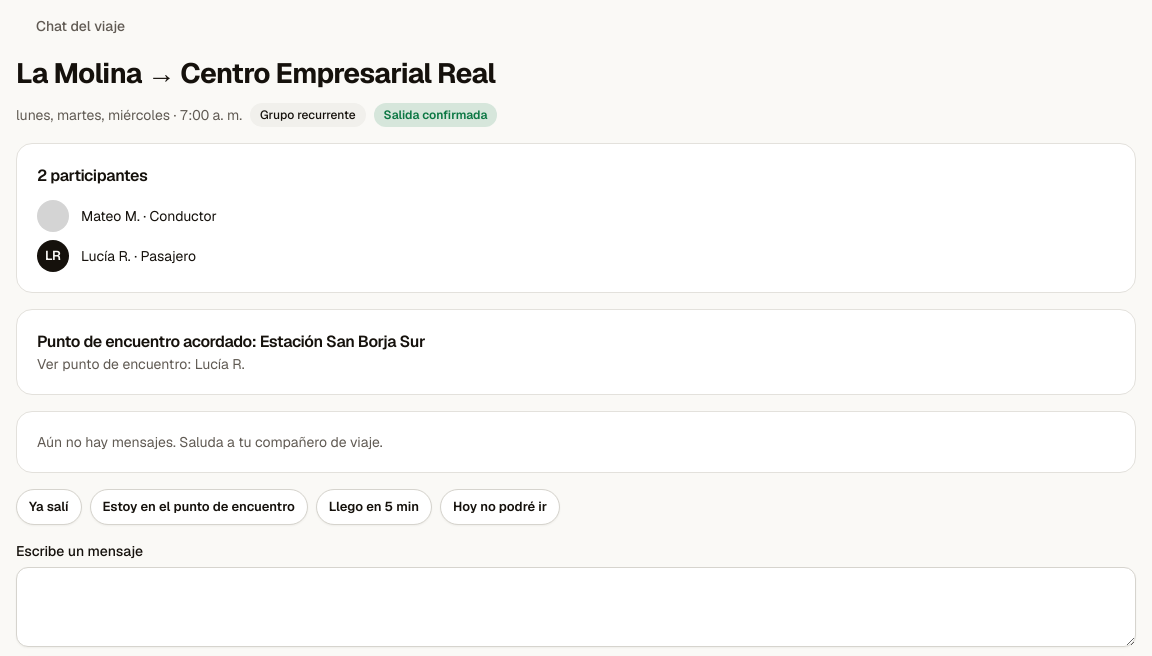
Test: trip chat › shows the accepted trip and sends a quick coordination message
This screenshot has width=1152, height=656.
Check: the heading "La Molina → Centro Empresarial Real" is shown, box [16,55,495,91]
Check: the text "Grupo recurrente" is shown, box [250,103,366,127]
Click the button "Estoy en el punto de encuentro" at (199, 507), box [90,489,308,525]
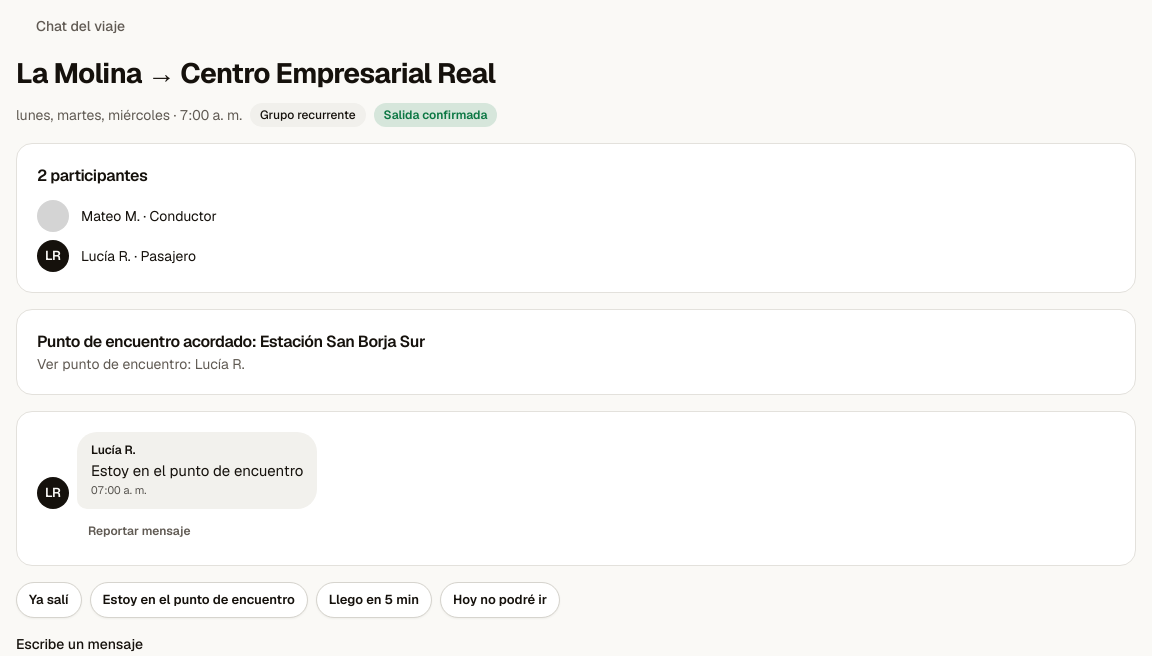
Check: the text "Estoy en el punto de encuentro" is shown 2 times, box [91,460,303,481]; [90,582,308,618]
